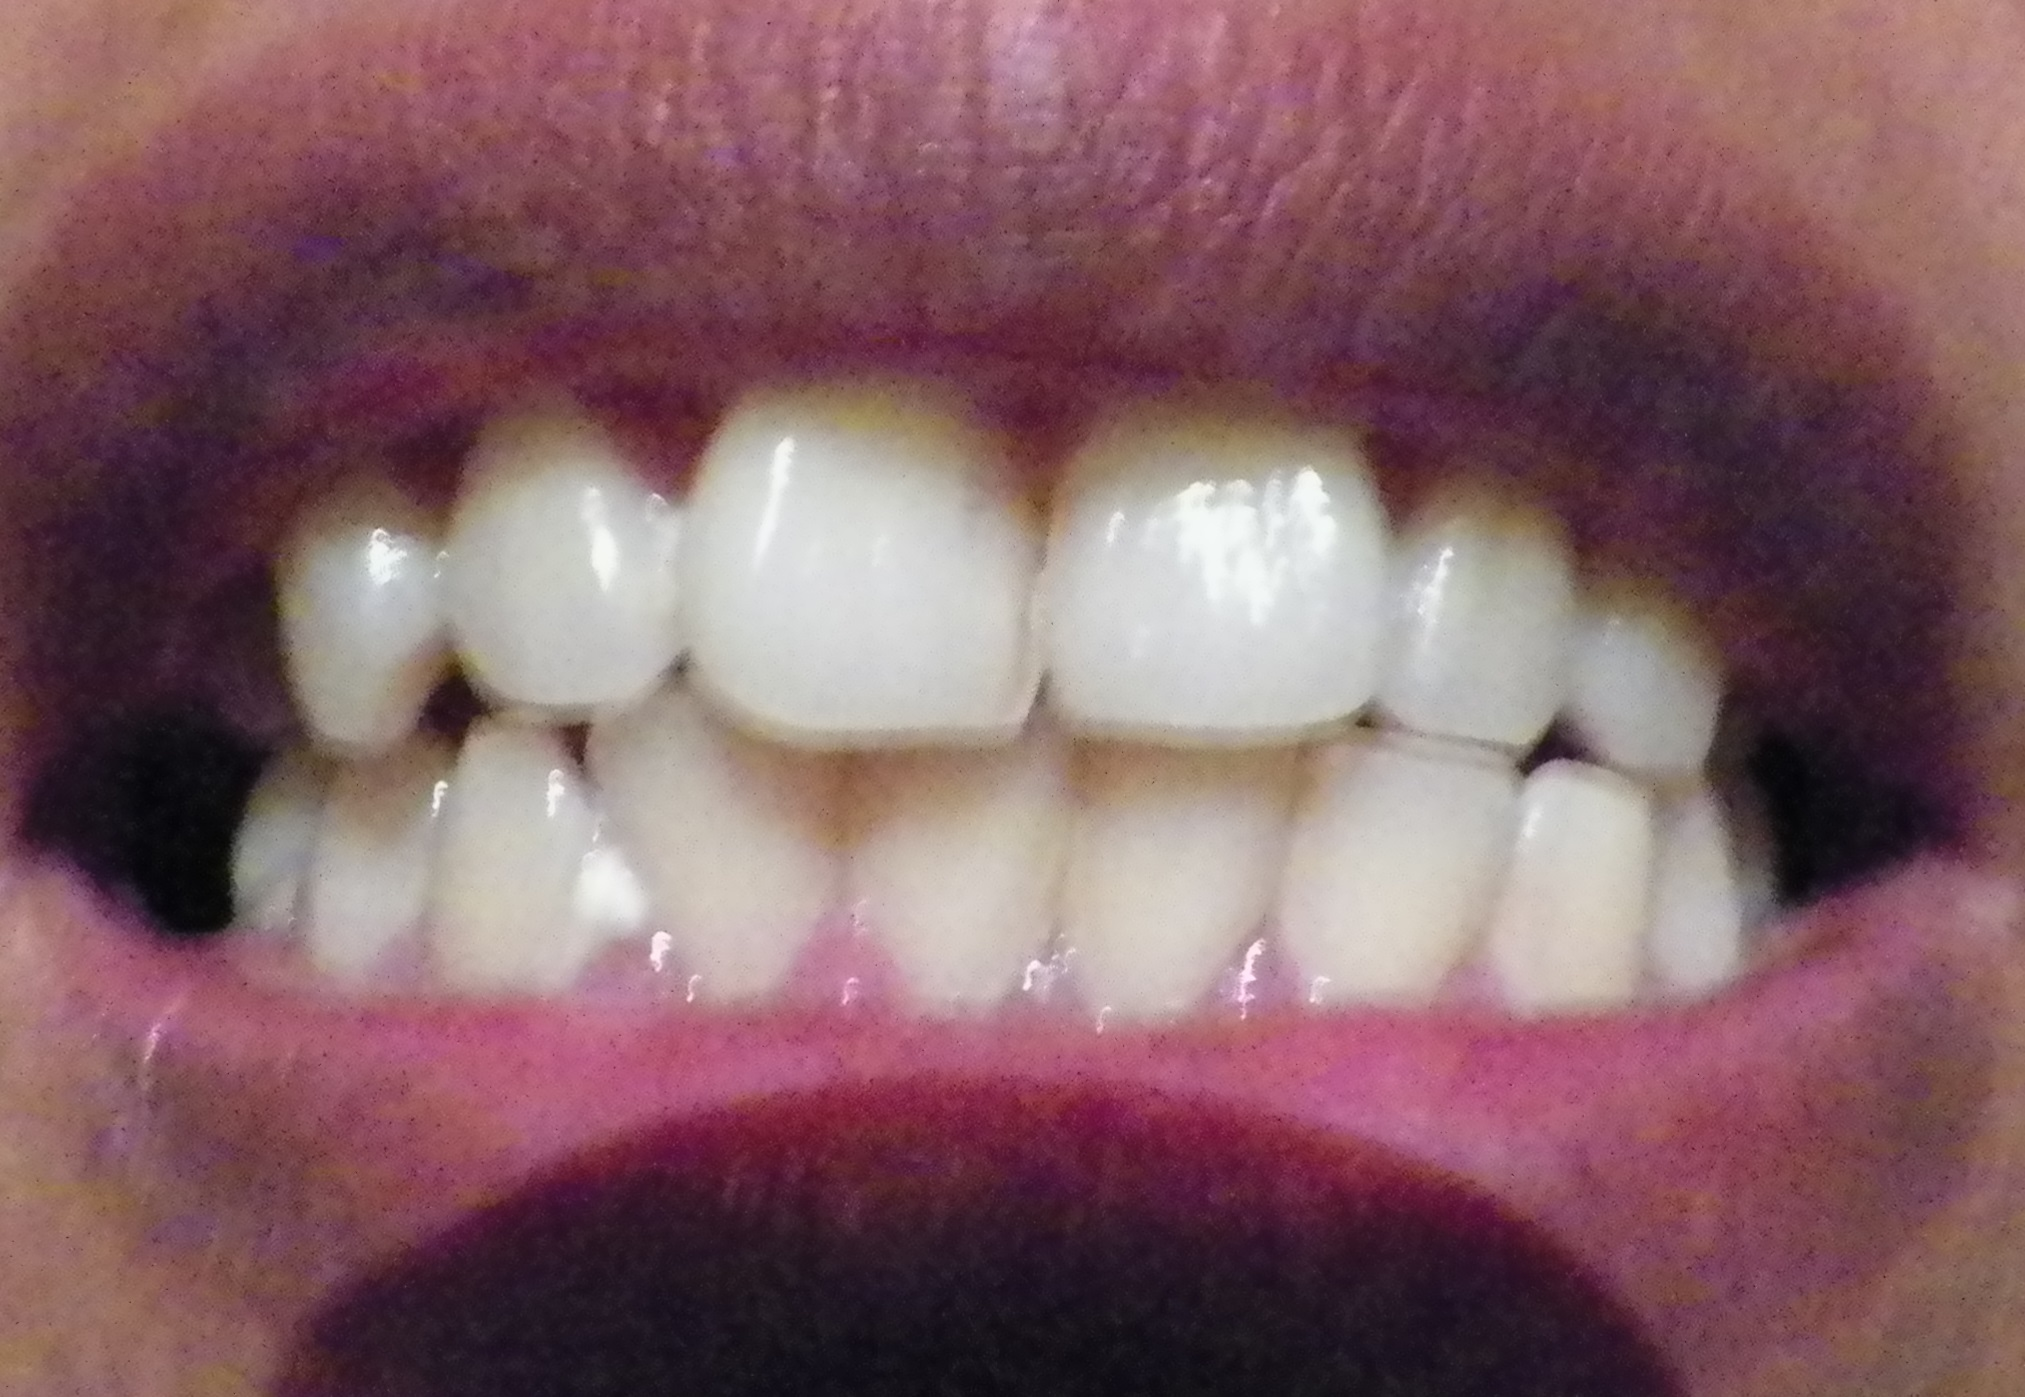boca: (220, 443, 1867, 1022)
